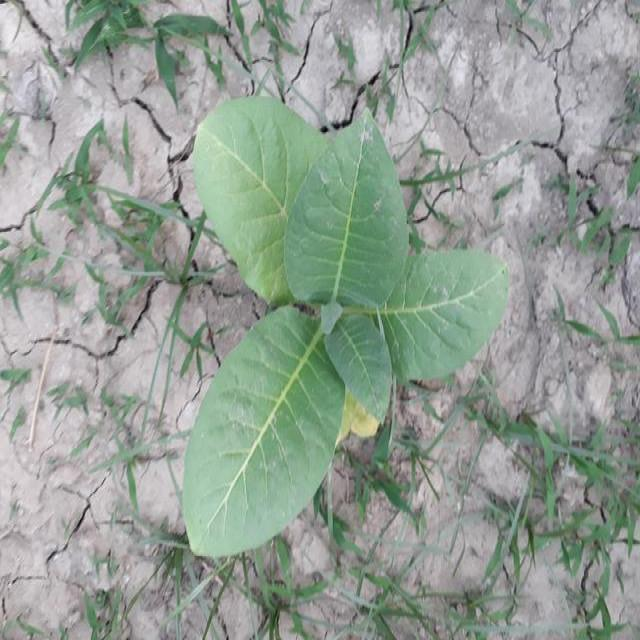crop: (182, 90, 511, 594)
